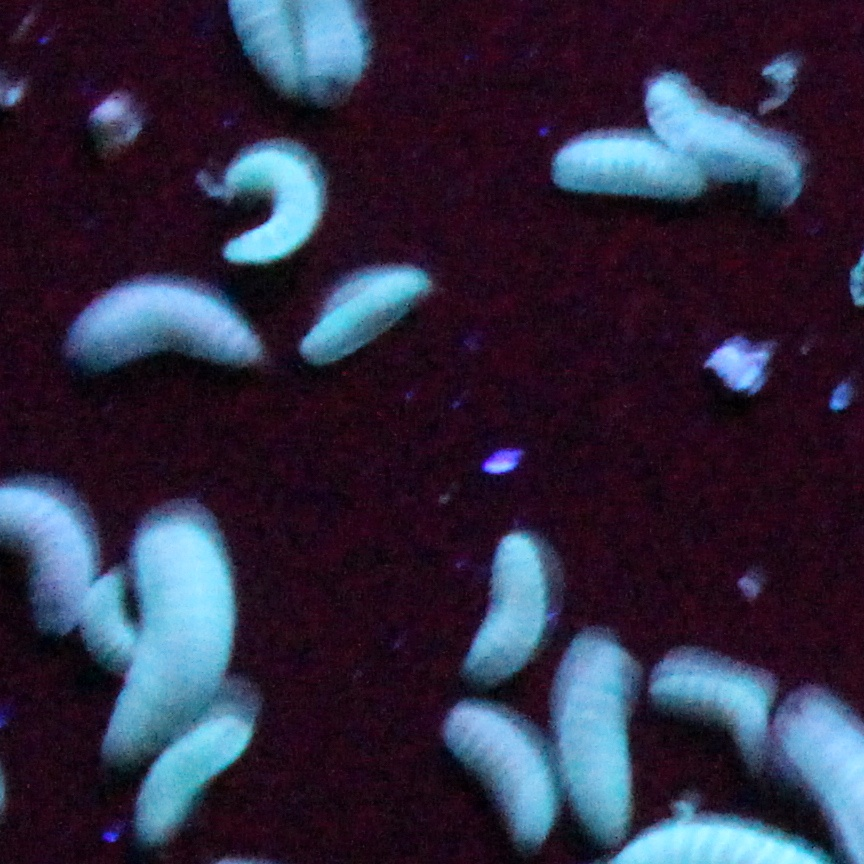larve: (104, 519, 234, 755), (443, 703, 554, 843), (70, 285, 257, 367), (558, 644, 633, 846), (645, 82, 797, 180), (142, 711, 251, 836), (463, 533, 547, 680), (223, 149, 318, 264), (302, 269, 424, 358), (554, 133, 704, 198), (651, 673, 763, 756), (81, 574, 134, 667)
